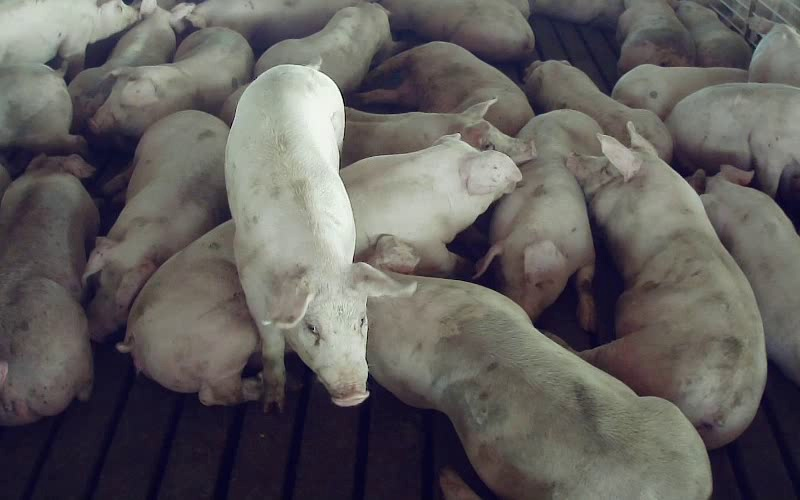pig: (363, 236, 710, 499), (225, 65, 414, 408), (567, 124, 765, 446), (83, 110, 228, 339), (476, 110, 600, 330), (0, 155, 98, 424), (340, 134, 521, 275), (688, 165, 799, 384), (90, 27, 253, 137), (354, 41, 533, 135), (68, 0, 194, 130), (665, 83, 799, 197), (523, 60, 672, 161), (341, 99, 535, 165), (255, 2, 391, 93), (0, 0, 138, 76), (381, 0, 534, 61), (188, 0, 357, 54), (611, 64, 747, 119), (616, 0, 695, 73), (671, 0, 751, 68), (749, 15, 799, 86)
